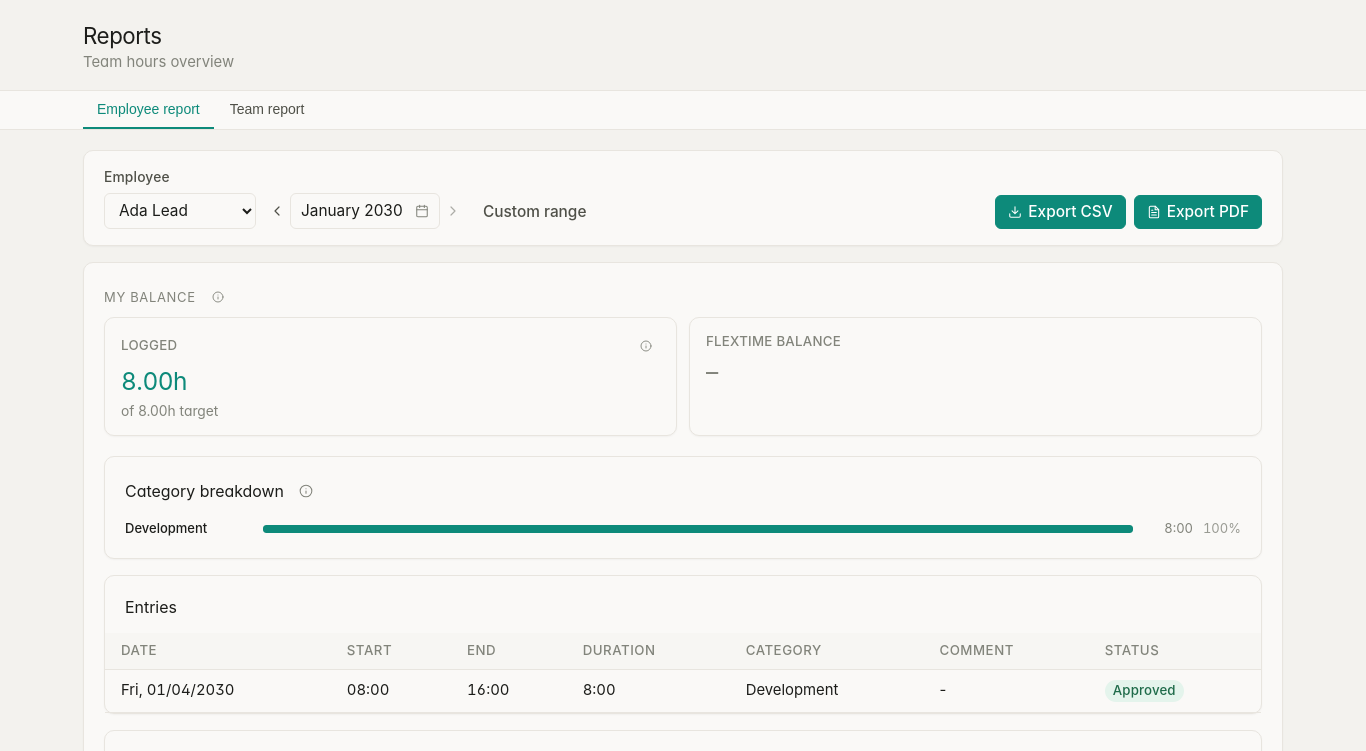
Test: Reports › only commits the most recently selected employee's data when switching quickly (race guard)
Select "Ben Employee" in the dropdown with id "reports-user-select" at (180, 211), box 104,193 -> 256,229
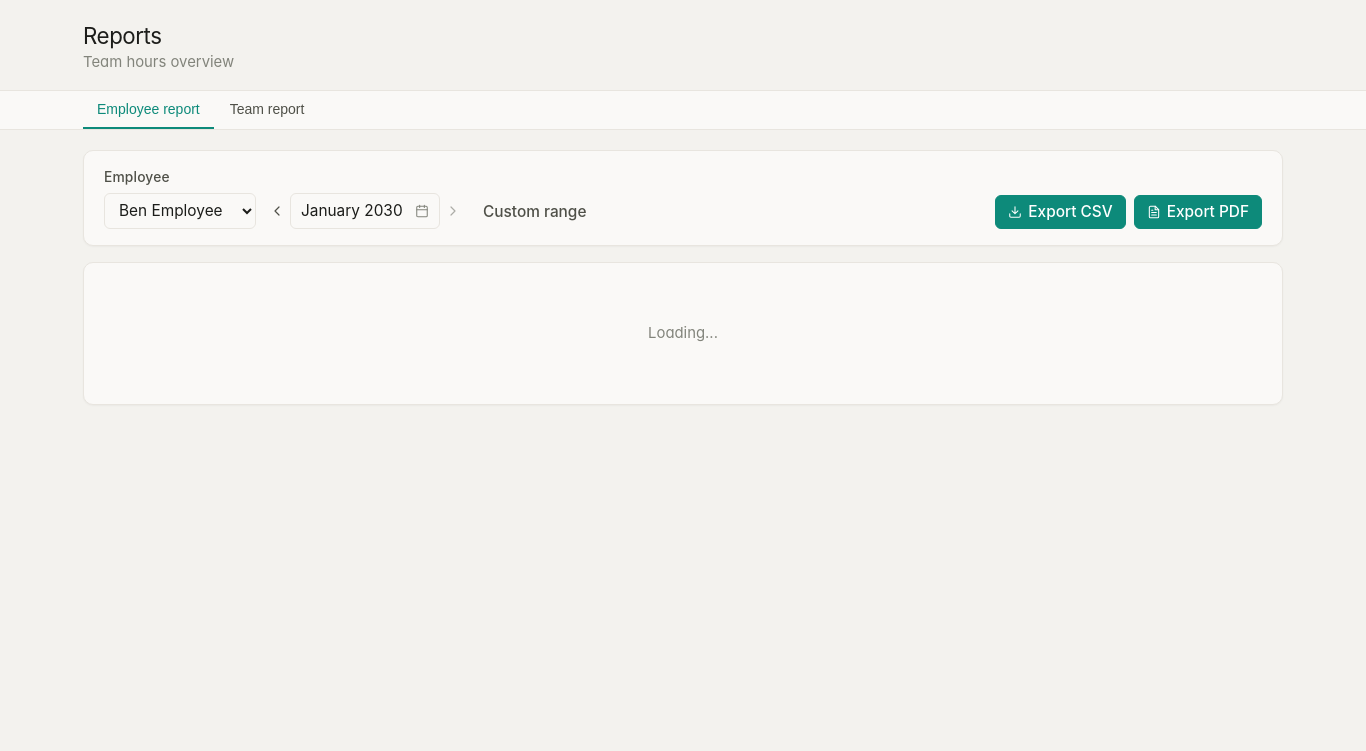
Select "Cara Employee" in the dropdown with id "reports-user-select" at (180, 211), box 104,193 -> 256,229
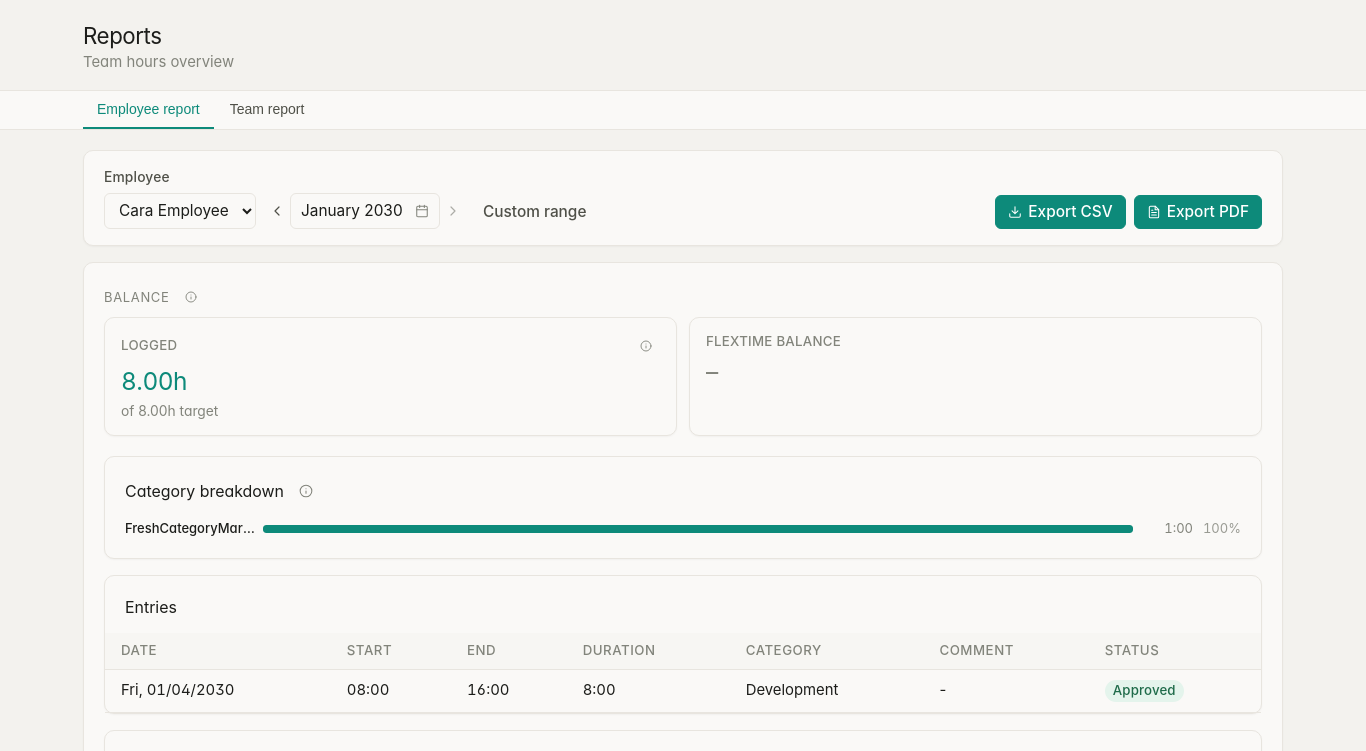
Expected: the text "FreshCategoryMarker" is shown, 125,519 -> 255,538
